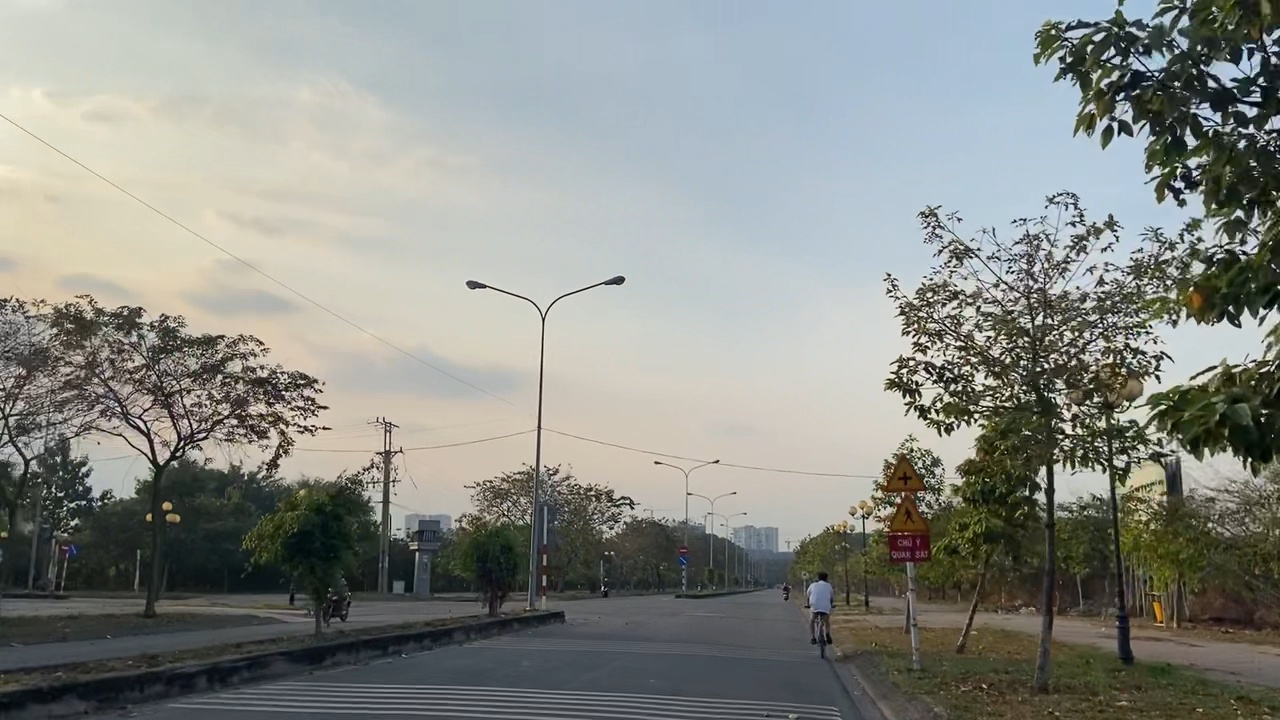can_than_nguoi_qua_duong: (888, 492, 932, 535)
giao_nhau_chu_thap: (882, 451, 929, 493)
